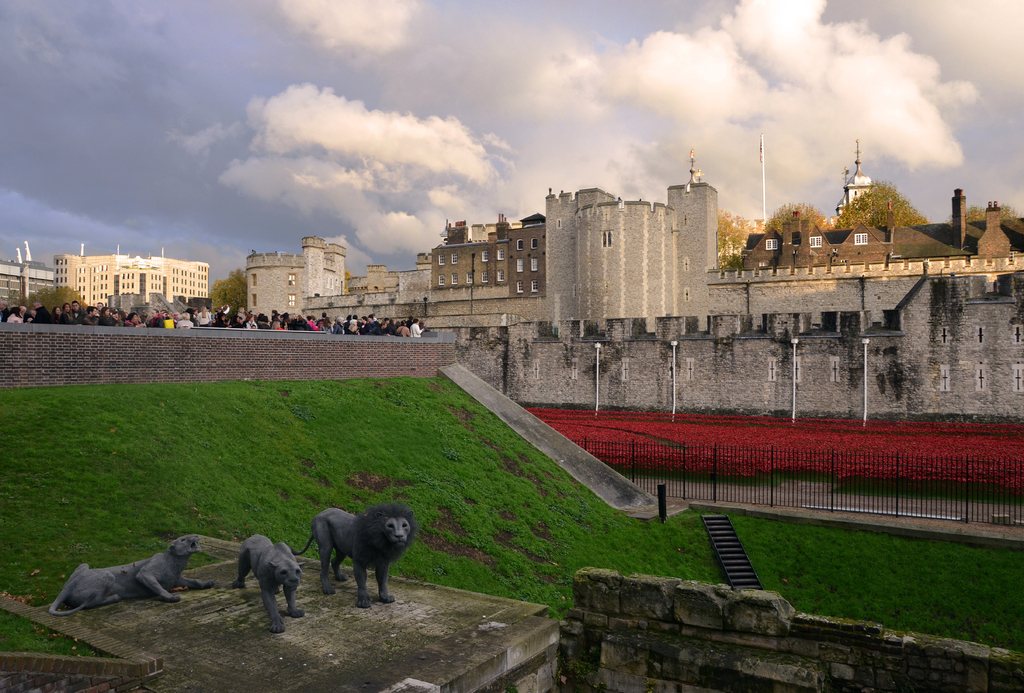Animal: (47, 532, 207, 612), (293, 508, 412, 603), (234, 538, 299, 633)
